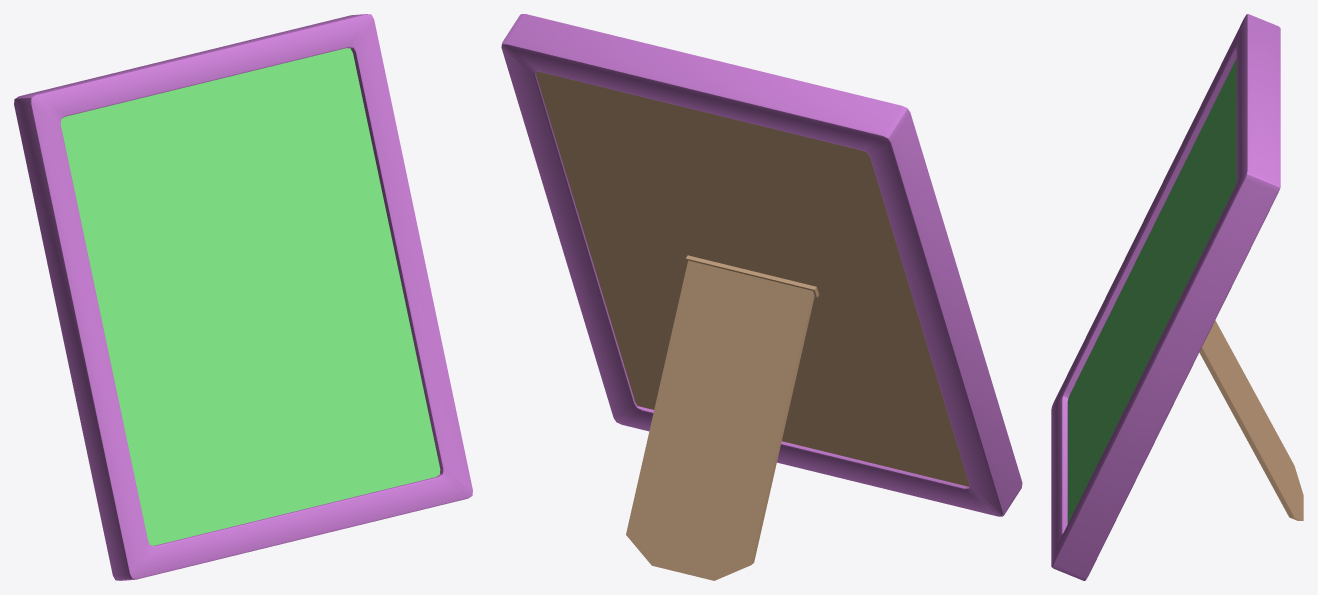
Rendered from Picture frame.FBX.
The picture shows the model from 3 angles, left to right: view 1: azimuth 30°, elevation 25°; view 2: azimuth 150°, elevation 25°; view 3: azimuth 270°, elevation 25°; orthographic projection. The views are drawn at different scales.
Parts seen in each view (by area): view 1: Object001, Box001; view 2: Frame back, Box001; view 3: Box001, Object001, Frame back.
Boxes of the visible parts, box(x1,y1,x2,y2) form: Object001: box(60, 48, 440, 545); Box001: box(14, 14, 472, 580); Frame back: box(536, 72, 969, 580); Box001: box(501, 14, 1022, 516); Box001: box(1051, 14, 1280, 580); Object001: box(1067, 58, 1236, 523); Frame back: box(1199, 320, 1303, 520).
Size of the model in its own units: 0.1975 by 0.2363 by 0.1298.
